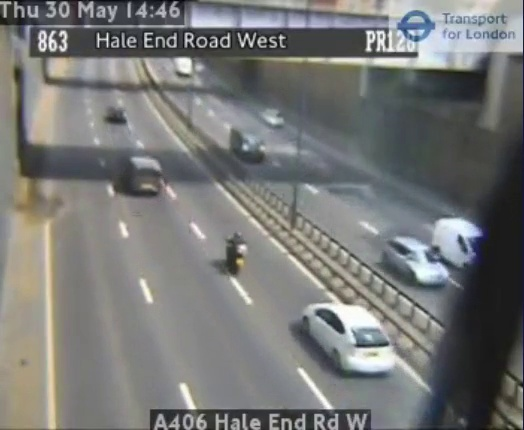car: (303, 302, 394, 374)
motorcycle: (227, 231, 249, 275)
van: (127, 156, 163, 195)
